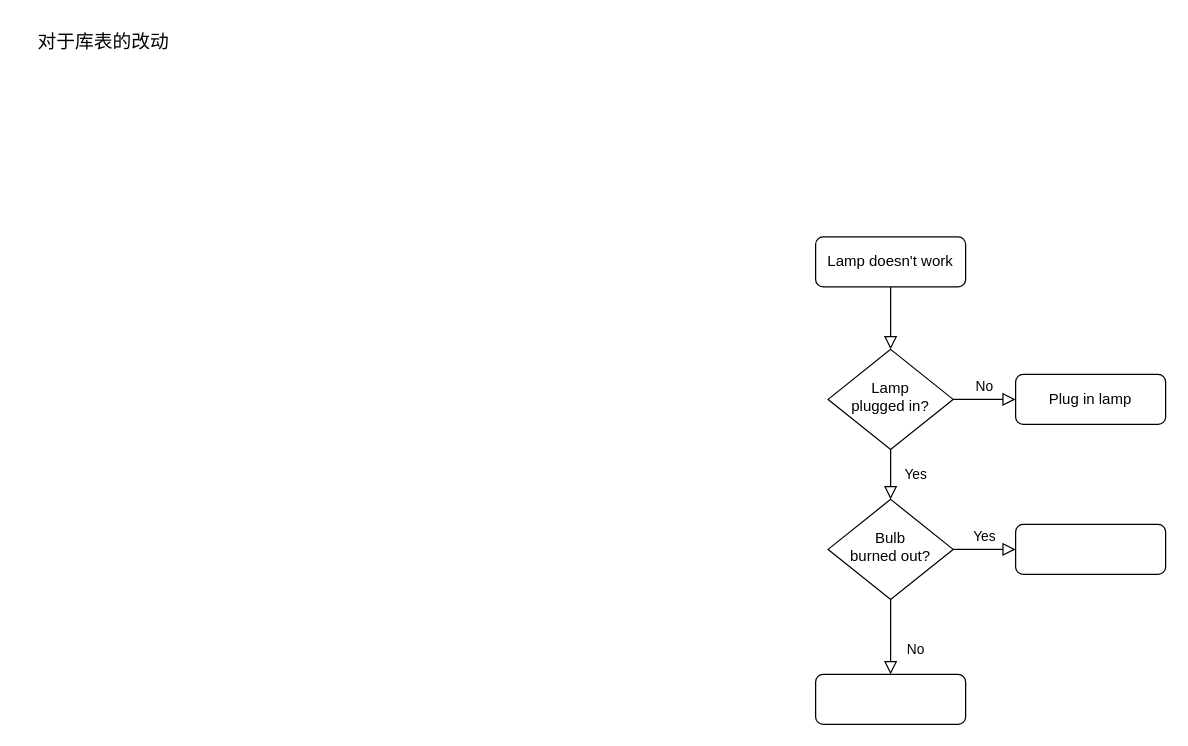
This 1188x746 diagram has some shape labels left out. Each missing label, with the box of its shape:
Repair Lamp: (814, 673, 966, 724)
Replace Bulb: (1014, 523, 1166, 574)
